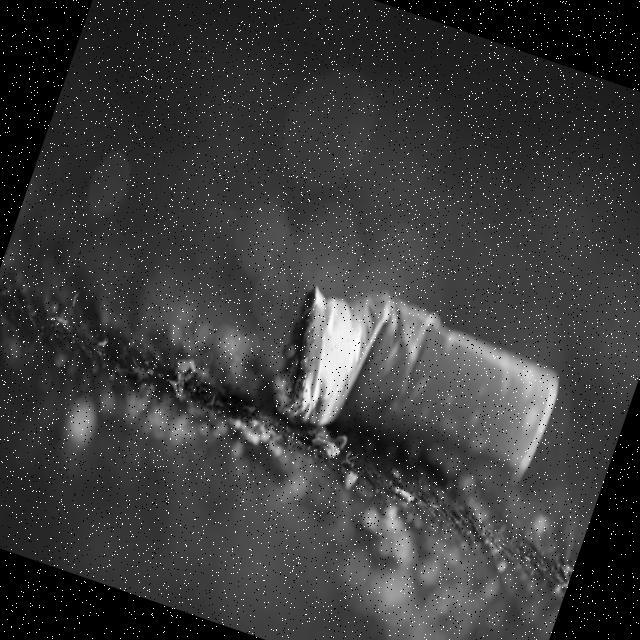cigarette: (253, 260, 574, 508)
